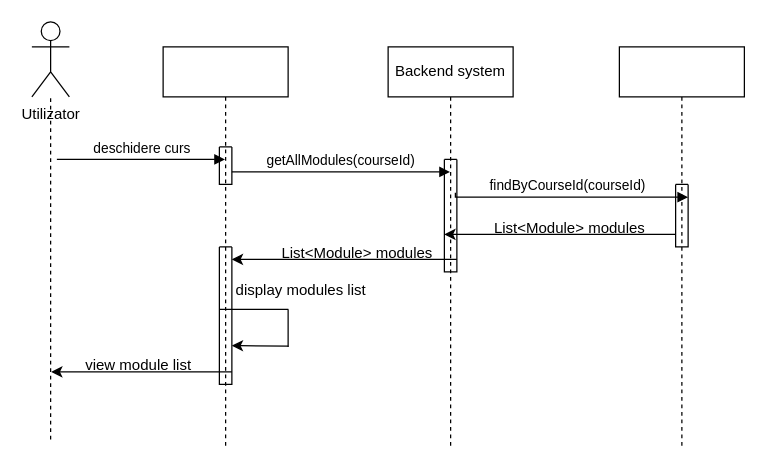
Image size: 766x469. Some labels were removed from this diagram. The box of each missing label's shape, as (x1, y1, x2, y2) in pixels:
Database: (618, 46, 744, 447)
Frontend: (162, 46, 288, 447)
